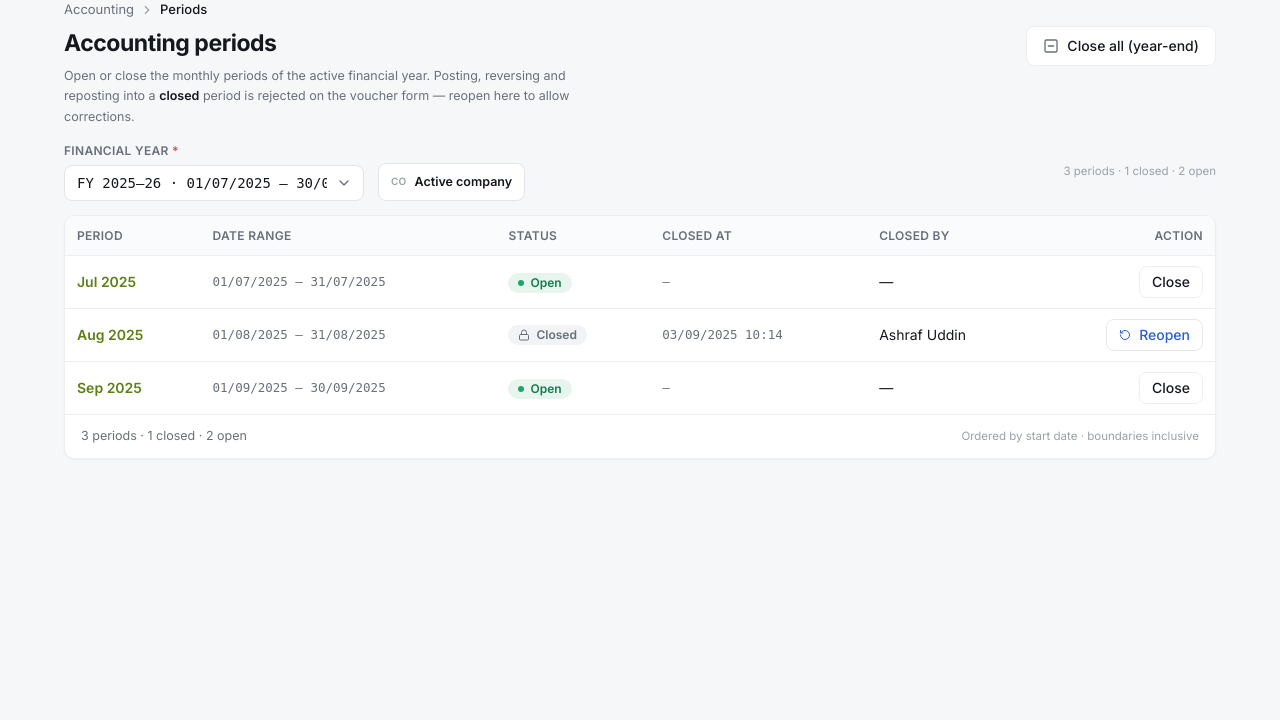
it: PeriodManagerScreen — reopen action + PERIOD_FY_LOCKED › a plain 403 FORBIDDEN closes the dialog and toasts the permission message
Expected: the table with test id "period-table" is shown, [65, 216, 1215, 414]
Click the button with test id "reopen-p2" at {"x": 1155, "y": 335}, box [1106, 319, 1203, 351]
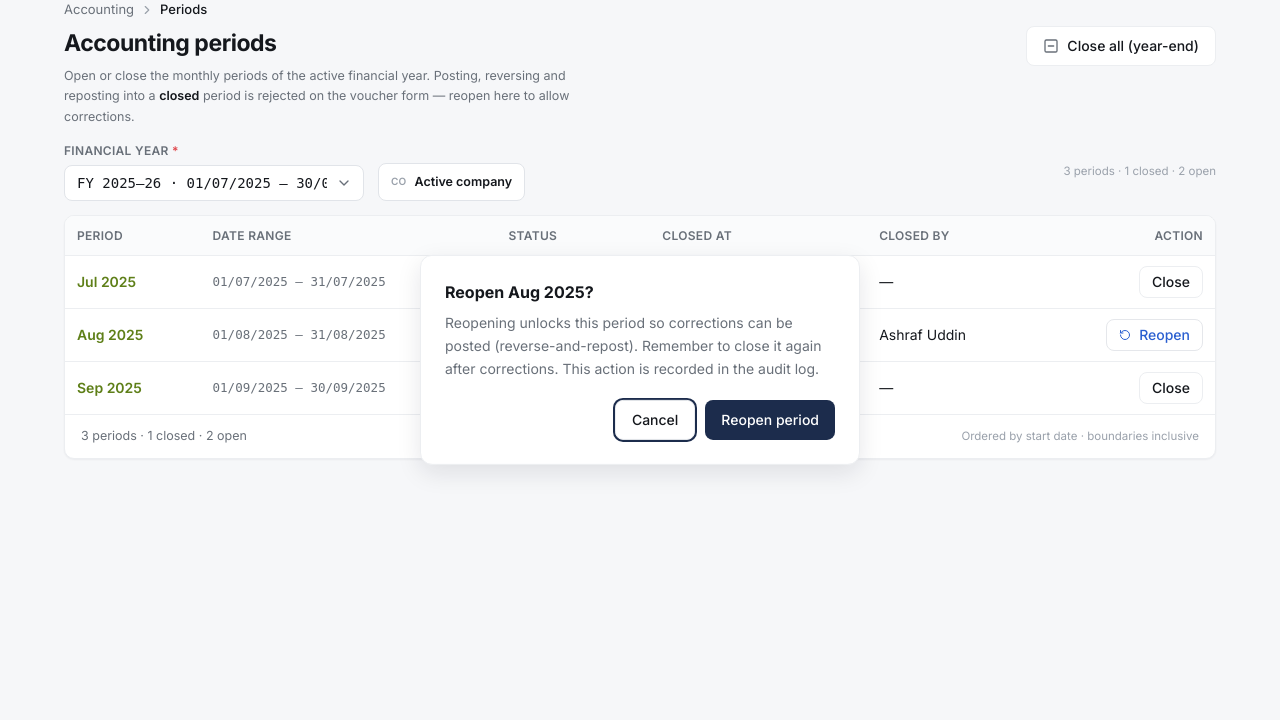
Expected: the dialog with test id "reopen-dialog" is shown, [420, 255, 860, 465]
Click the button with test id "reopen-dialog-confirm" at {"x": 770, "y": 420}, box [705, 400, 835, 440]
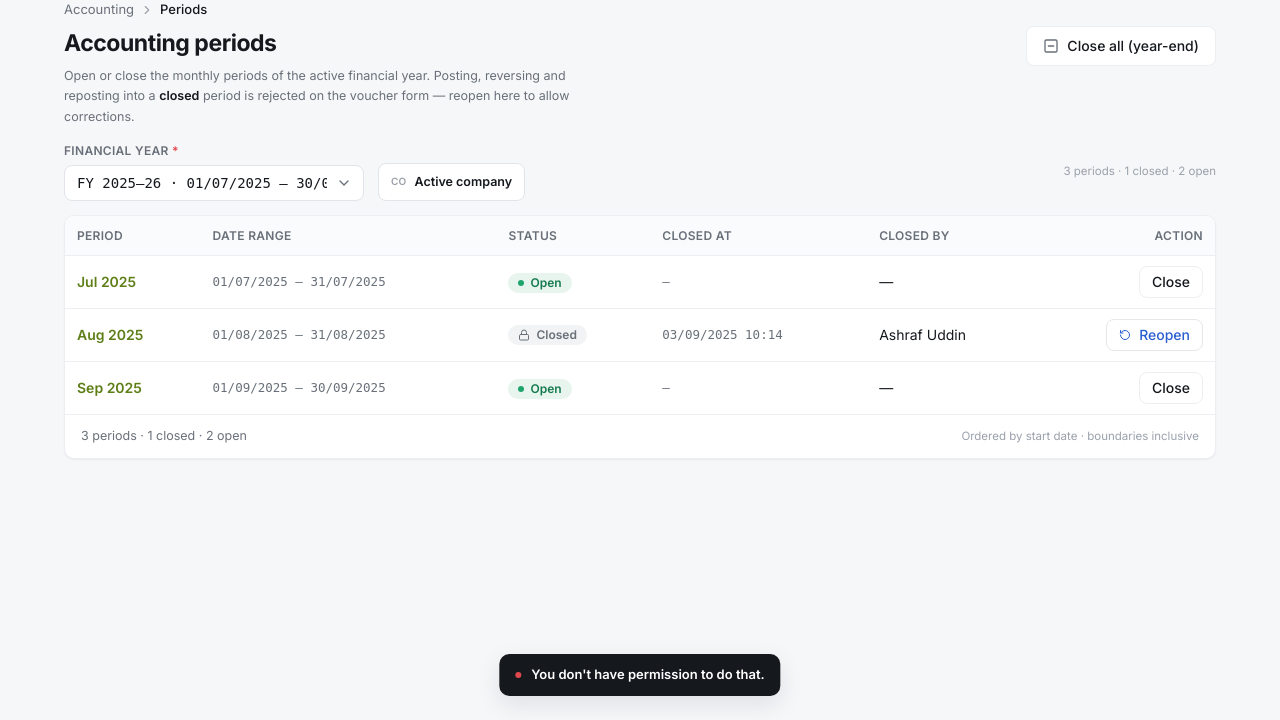
Expected: the text "You don't have permission to do that." is shown, [531, 665, 765, 685]
Expected: the dialog with test id "reopen-dialog" is gone
